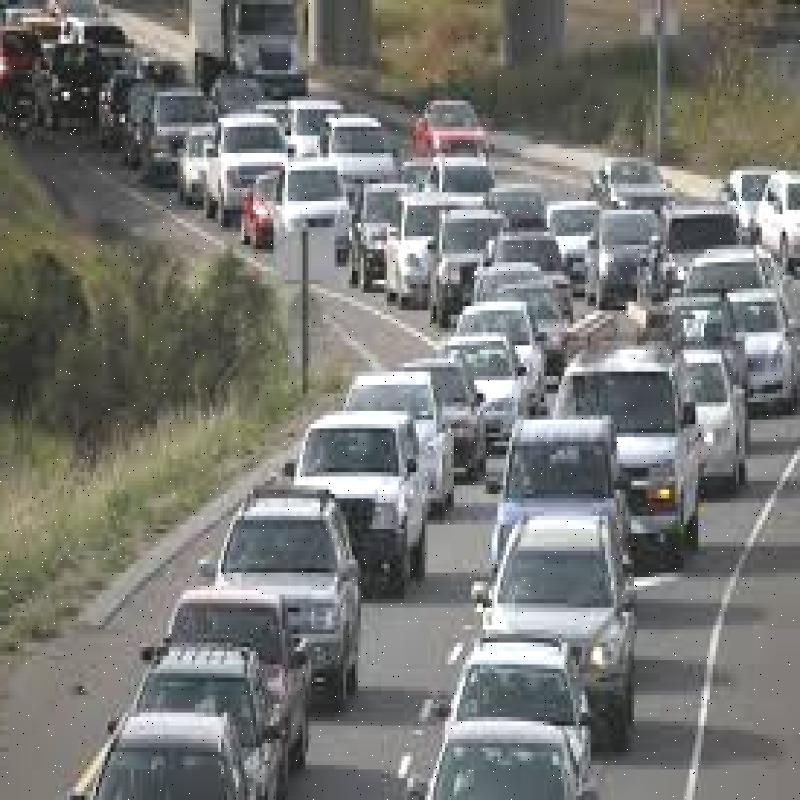car: (424, 497, 640, 740), (537, 343, 707, 556), (210, 474, 361, 710), (474, 404, 636, 562), (288, 399, 420, 592), (68, 708, 254, 800), (349, 363, 447, 520), (404, 750, 601, 795)
